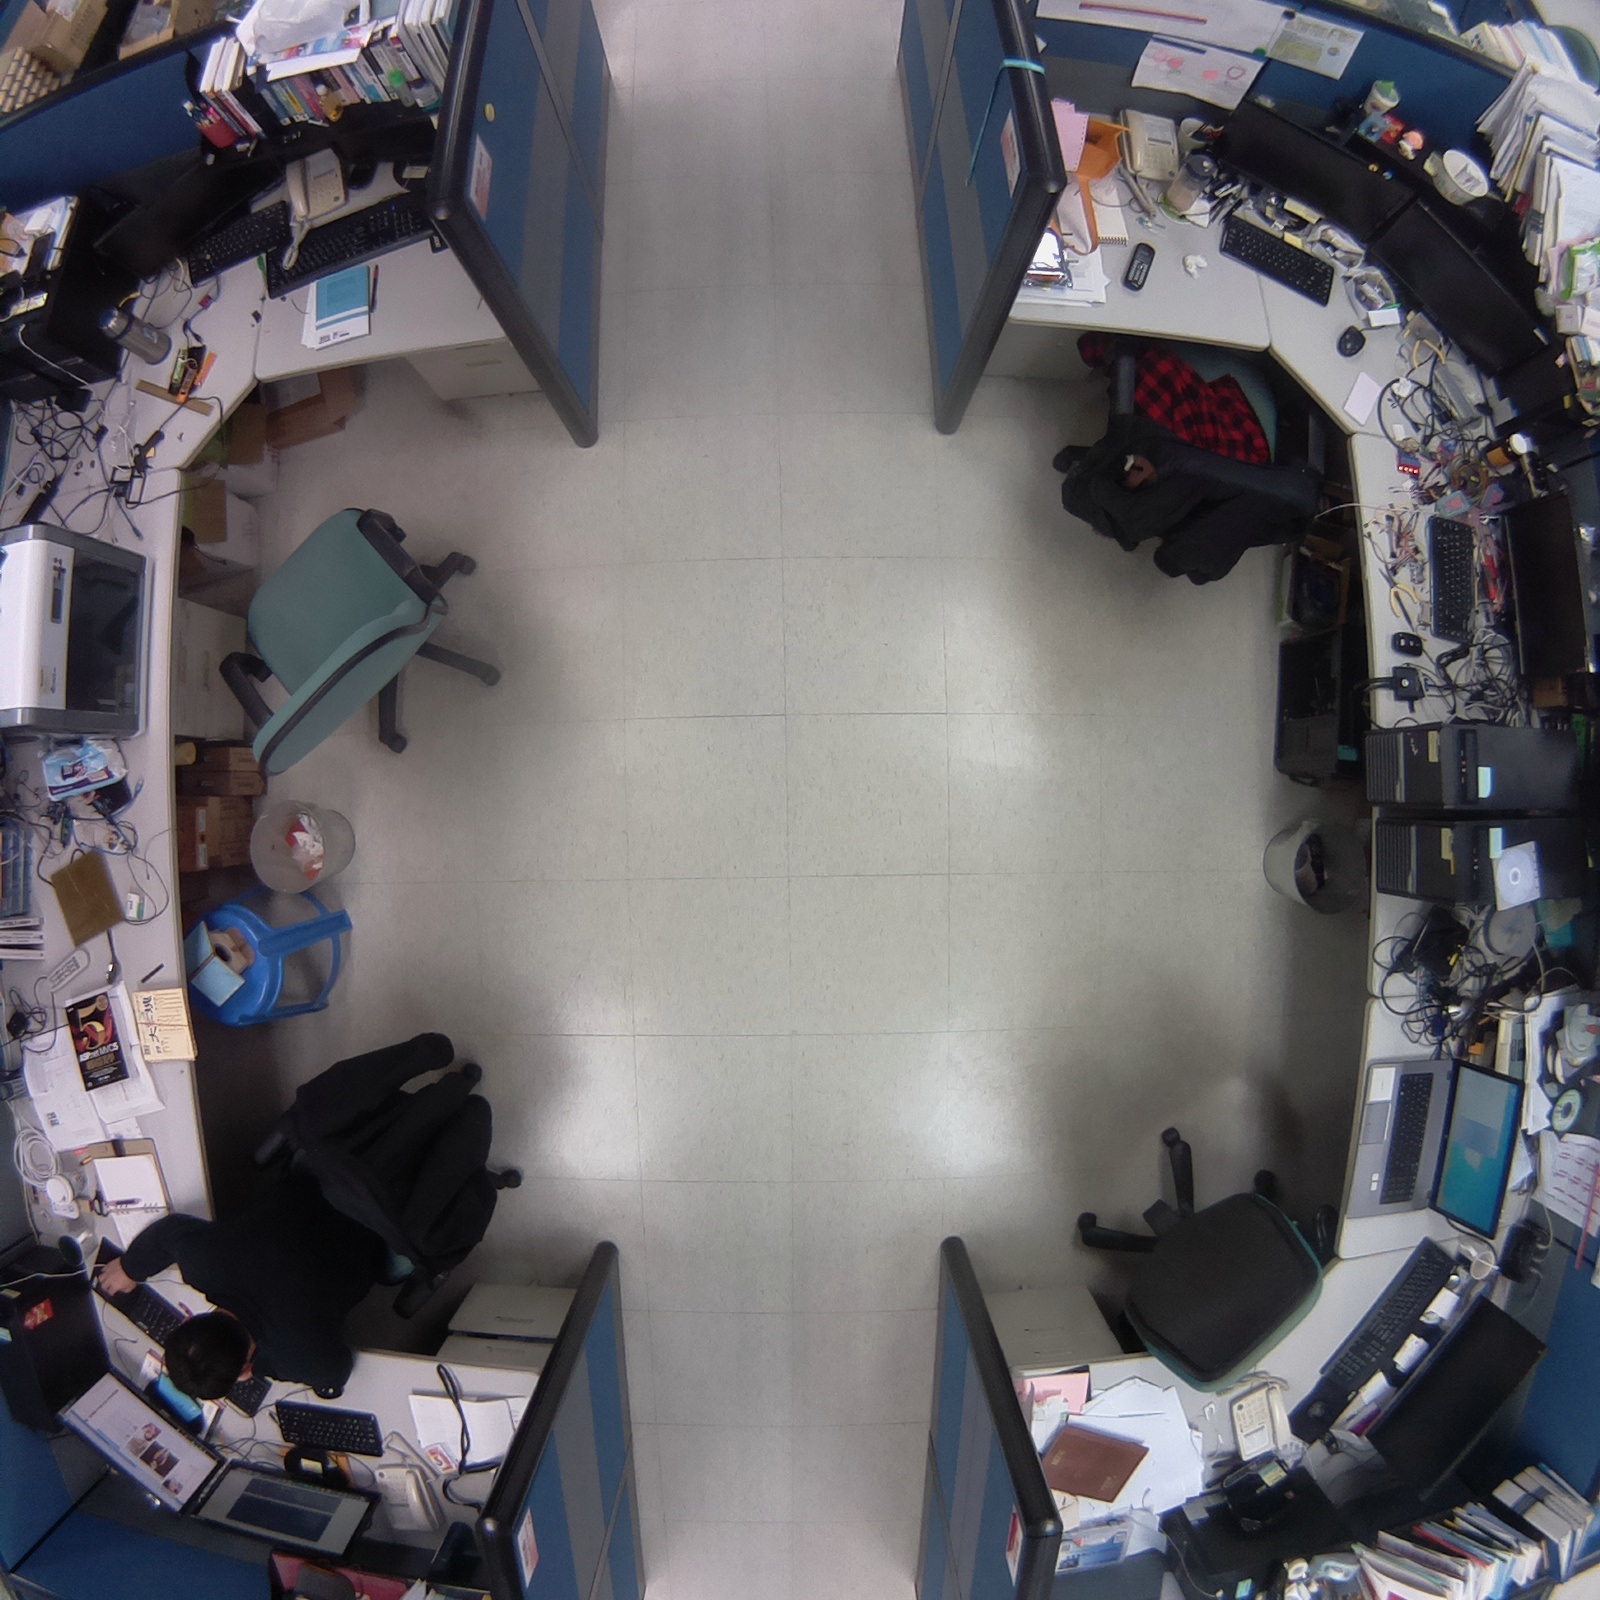chair: (1030, 295, 1347, 602), (217, 492, 514, 809), (1046, 1109, 1333, 1411)
sitting: (79, 1011, 533, 1434)
